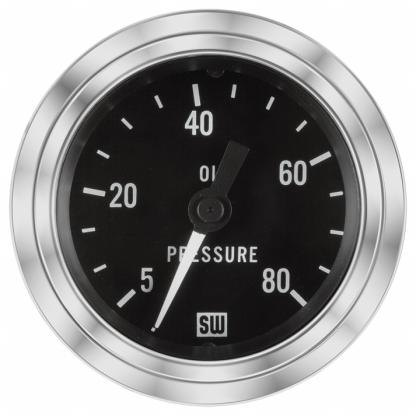needle: (153, 225, 208, 329)
